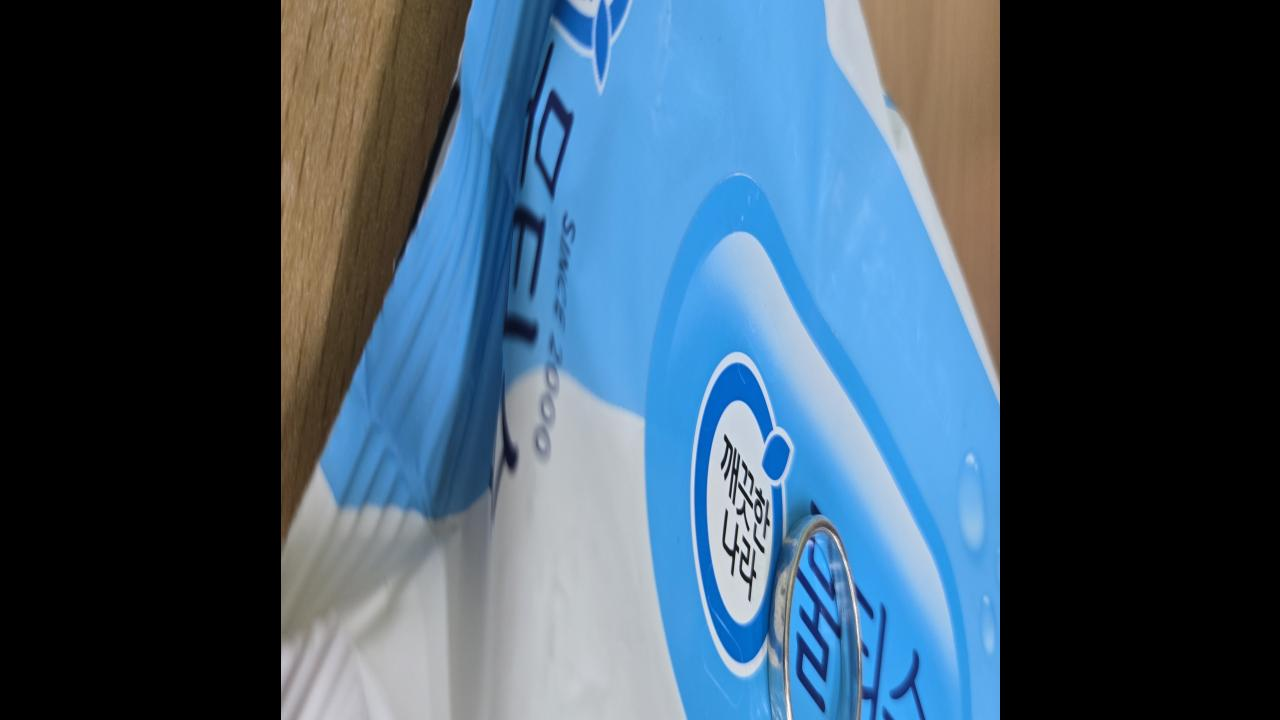ring: (767, 519, 861, 720)
